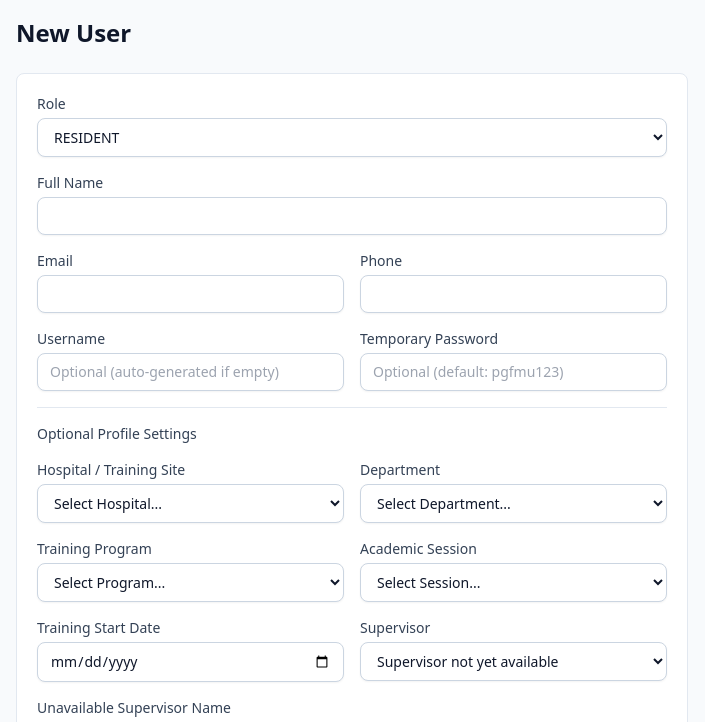
accepts an unavailable supervisor and a single-part name
This screenshot has width=705, height=722.
In the field labelled "Full Name": (352, 216) [37, 197, 667, 235], type "Resident"
(page scrolled)
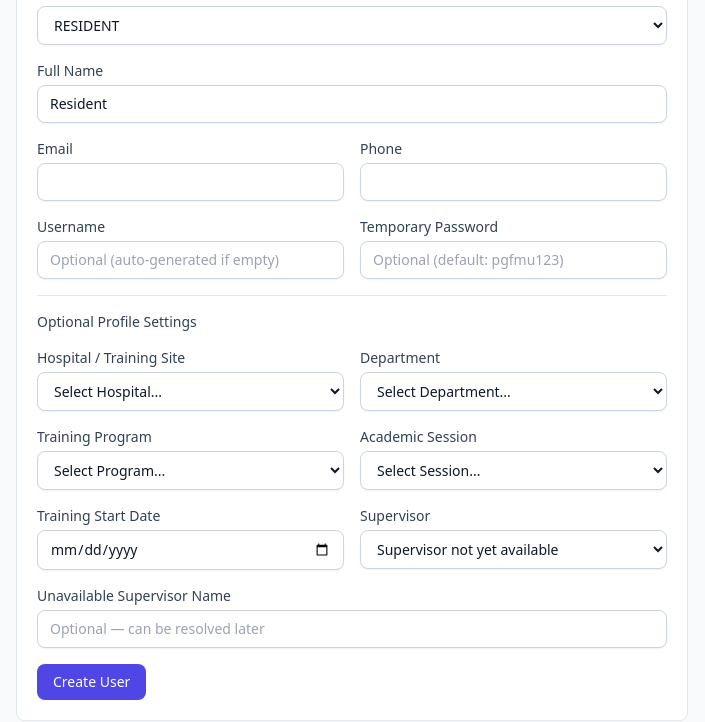
In the field labelled "Unavailable Supervisor Name": (352, 629) [37, 610, 667, 648], type " Dr Pending "
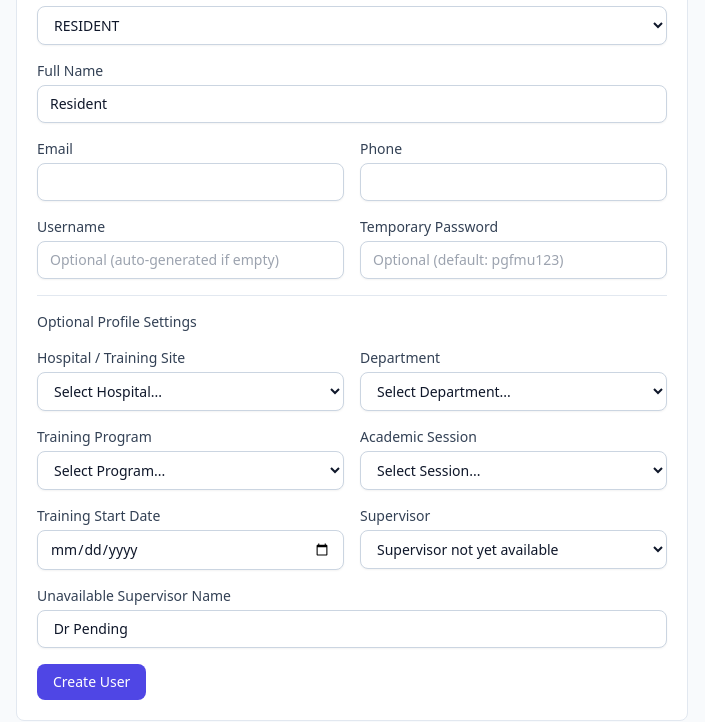
Click the button "Create User": (92, 682) [37, 664, 146, 700]
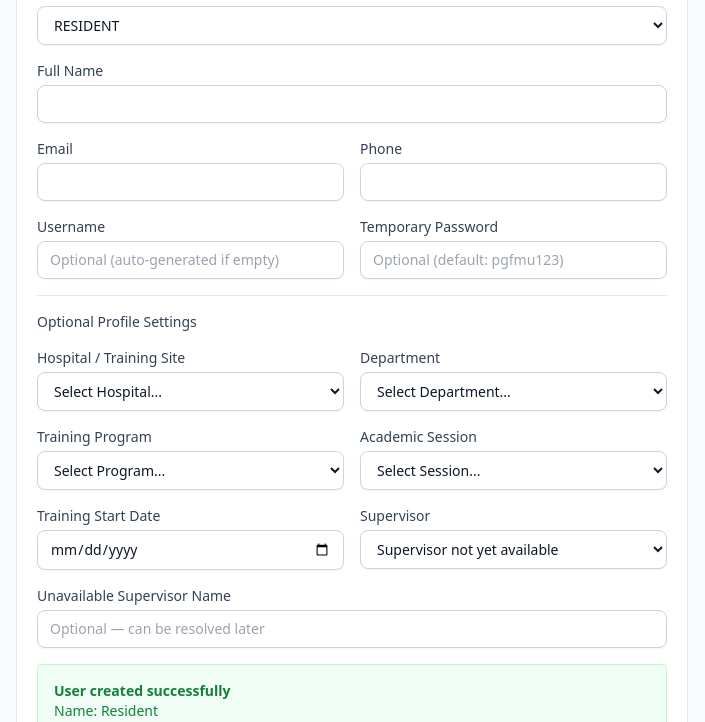
Expected: the text "User created successfully" is shown, [54, 681, 230, 700]
